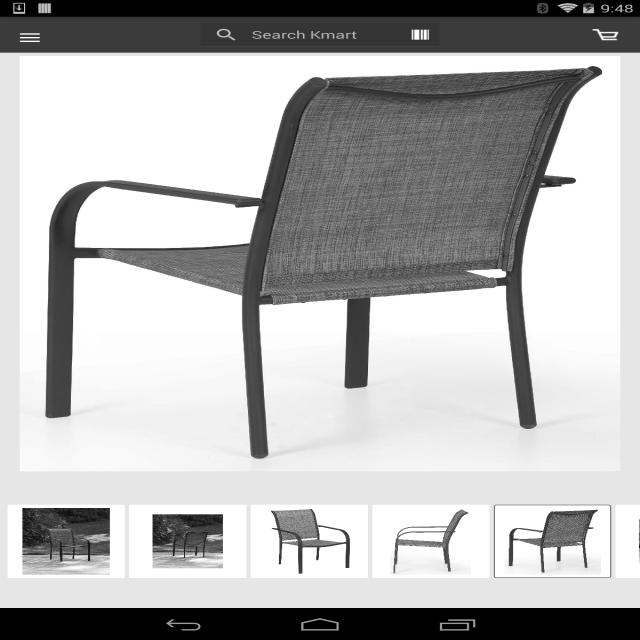ImageButton: (0, 20, 60, 56)
ImageView: (5, 56, 635, 471), (134, 508, 241, 575), (256, 508, 363, 575), (499, 508, 606, 575), (13, 508, 119, 575), (378, 508, 484, 575), (621, 508, 640, 575), (200, 23, 252, 46), (592, 29, 619, 40), (412, 30, 429, 40)
TextView: (252, 23, 357, 46)
